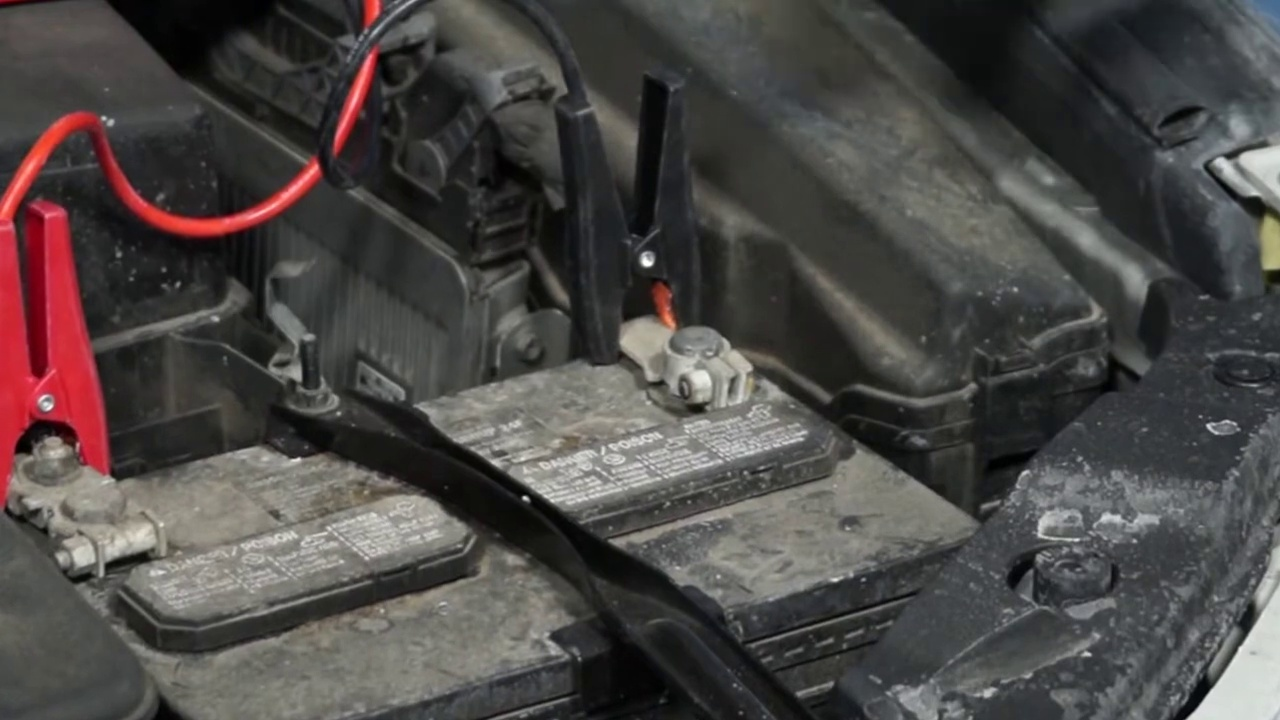battery: (12, 311, 979, 688)
neg_connected: (613, 281, 763, 427)
pos_connected: (5, 298, 149, 568)
